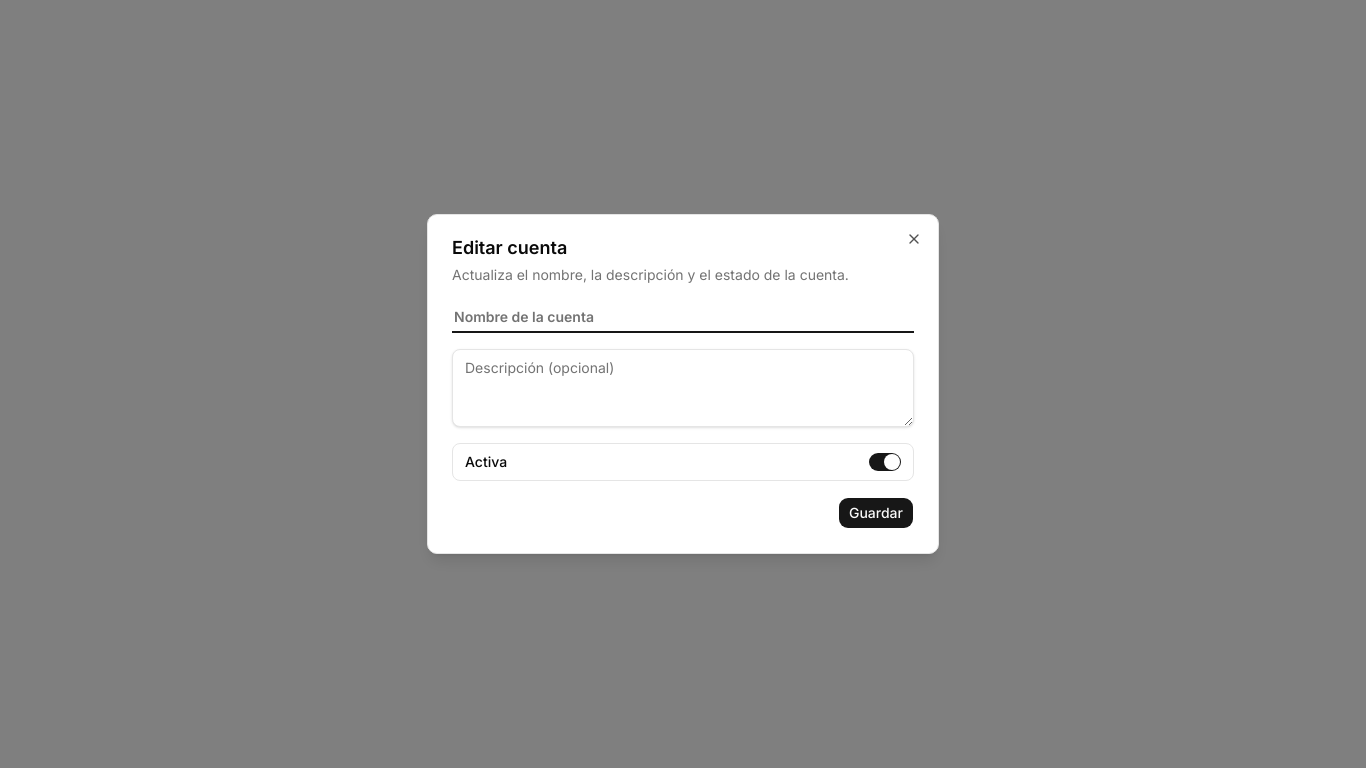
Test: EditAccountForm › shows error when no account selected
Type "Algo" into the field with placeholder "Nombre de la cuenta" at (683, 317), box [452, 301, 914, 333]
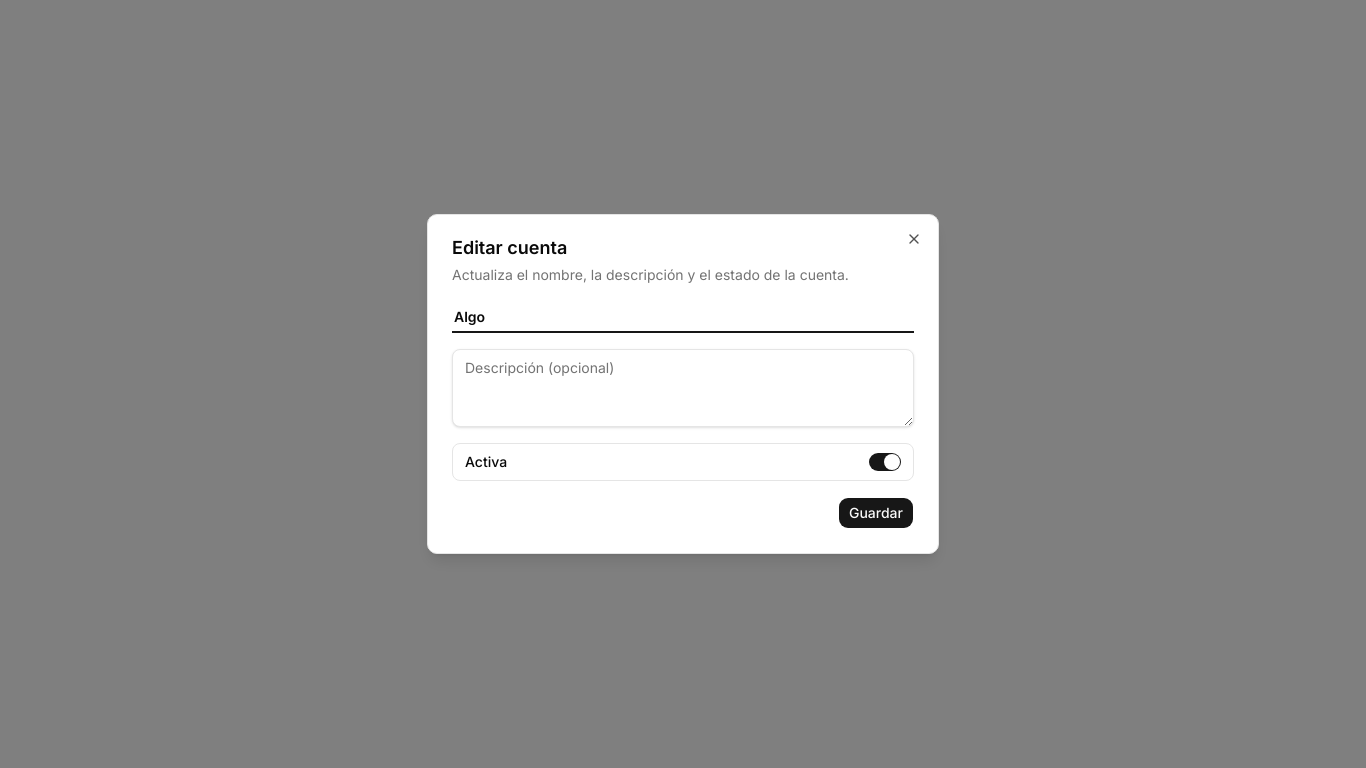
Click the button "Guardar" at (876, 513), box [838, 497, 914, 529]
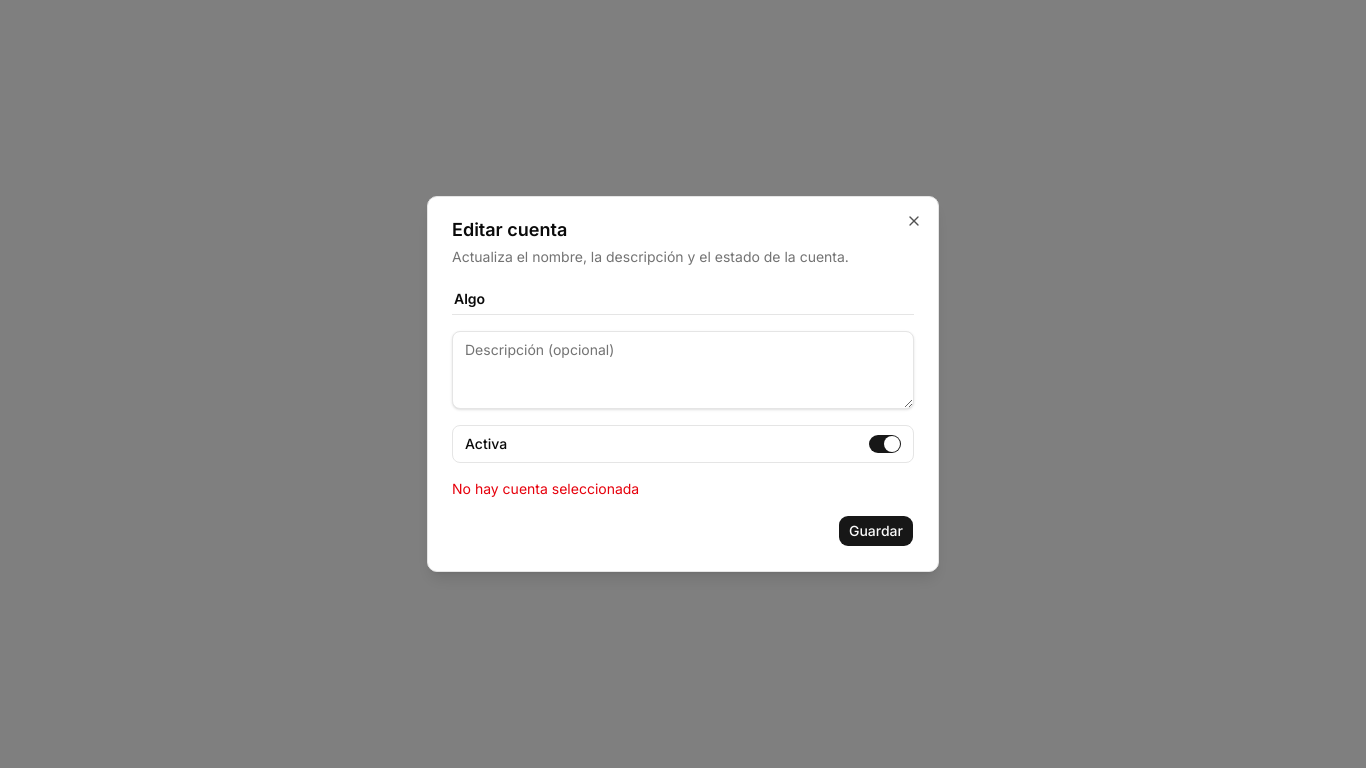
Expected: the text "No hay cuenta seleccionada" is shown, [452, 480, 639, 497]
